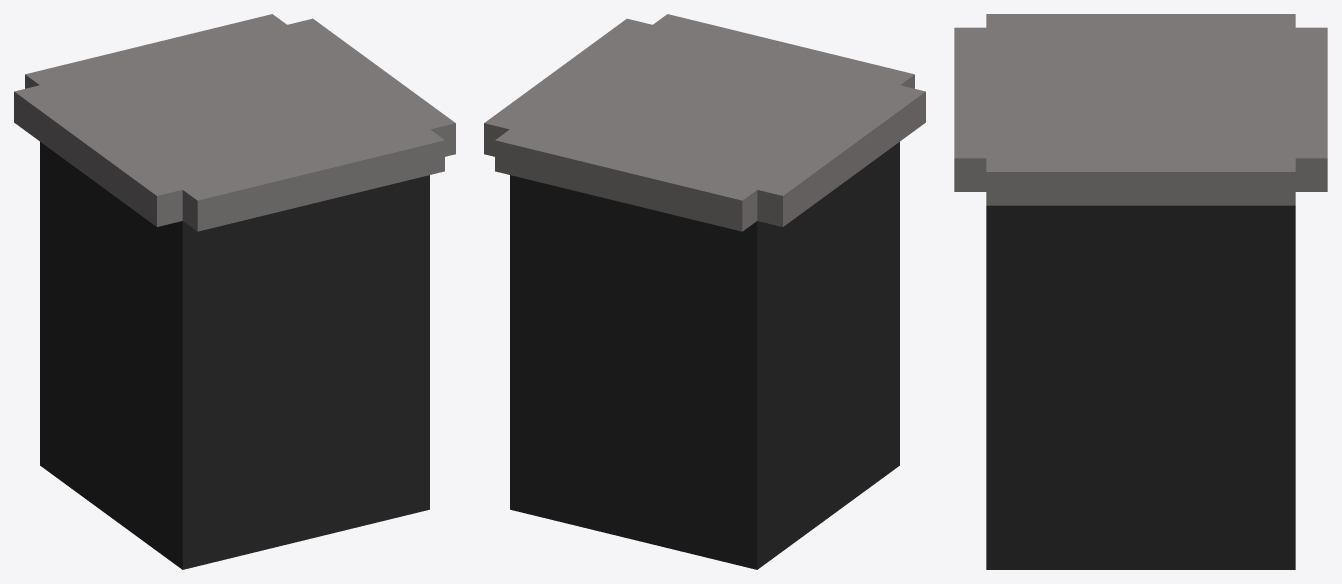
Rendered from home_base_01.fbx.
3 renders of one model, left to right at view 1: azimuth 30°, elevation 25°; view 2: azimuth 150°, elevation 25°; view 3: azimuth 270°, elevation 25°, orthographic. The views are drawn at different scales.
Visible parts, largest first — view 1: home_base_01; view 2: home_base_01; view 3: home_base_01.
Boxes of the visible parts, x1=… form: home_base_01: x1=14, y1=14, x2=455, y2=569; home_base_01: x1=484, y1=14, x2=925, y2=569; home_base_01: x1=954, y1=14, x2=1327, y2=569.
Bounding box in the file's own units: 823 × 1000 × 823.
